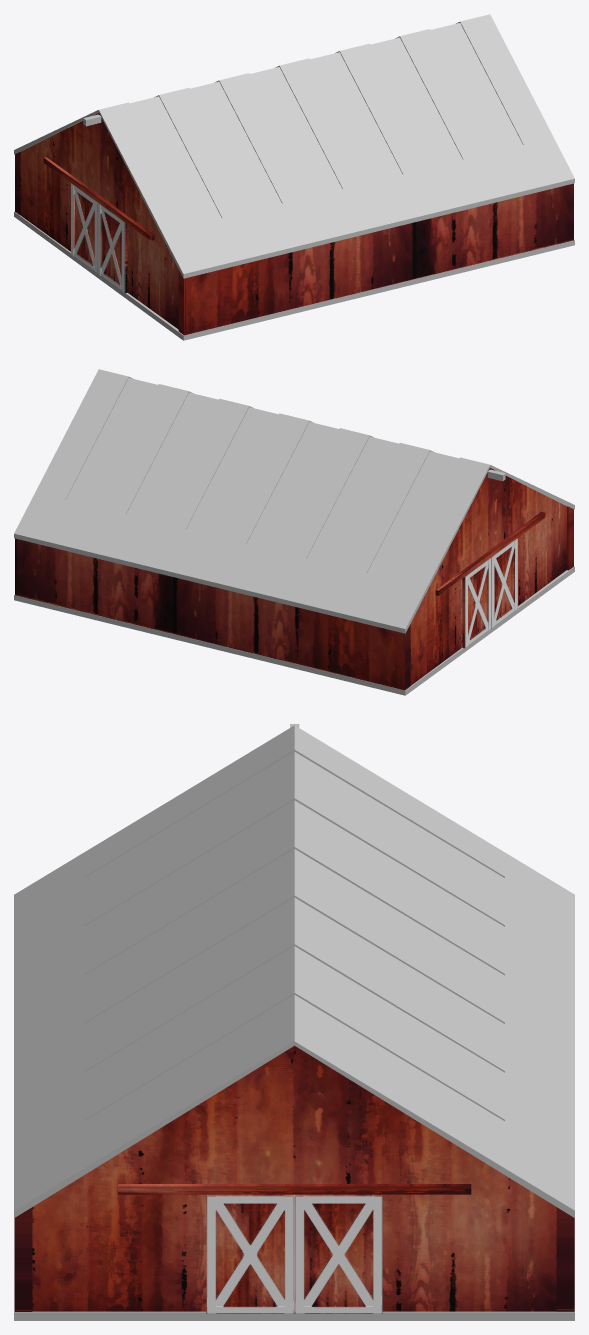
The model's file is Barn.fbx.
The picture shows the model from 3 angles, top to bottom: view 1: azimuth 30°, elevation 25°; view 2: azimuth 150°, elevation 25°; view 3: azimuth 270°, elevation 25°; orthographic projection. The views are drawn at different scales.
Parts seen in each view (by area): view 1: Roof, Floor.001, Walls, Walls.001; view 2: Roof, Floor.001, Walls, Walls.001; view 3: Roof, Walls, Floor.001.
Boxes of the visible parts, x1=… form: Roof: x1=14, y1=14, x2=574, y2=278; Floor.001: x1=14, y1=23, x2=574, y2=340; Walls: x1=43, y1=157, x2=573, y2=335; Walls.001: x1=15, y1=113, x2=185, y2=334; Roof: x1=14, y1=369, x2=574, y2=633; Floor.001: x1=14, y1=378, x2=574, y2=695; Walls: x1=15, y1=506, x2=573, y2=690; Walls.001: x1=405, y1=468, x2=566, y2=689; Roof: x1=14, y1=725, x2=574, y2=1217; Walls: x1=14, y1=1046, x2=574, y2=1313; Floor.001: x1=14, y1=724, x2=574, y2=1320.
Bounding box in the file's own units: 4163 × 1651 × 3001.
